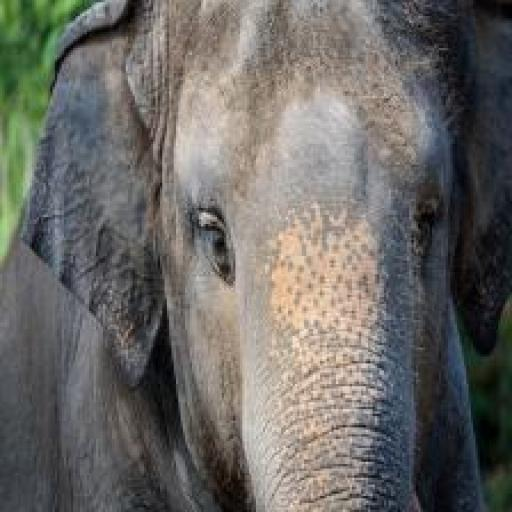Elephant: (7, 4, 508, 511)
